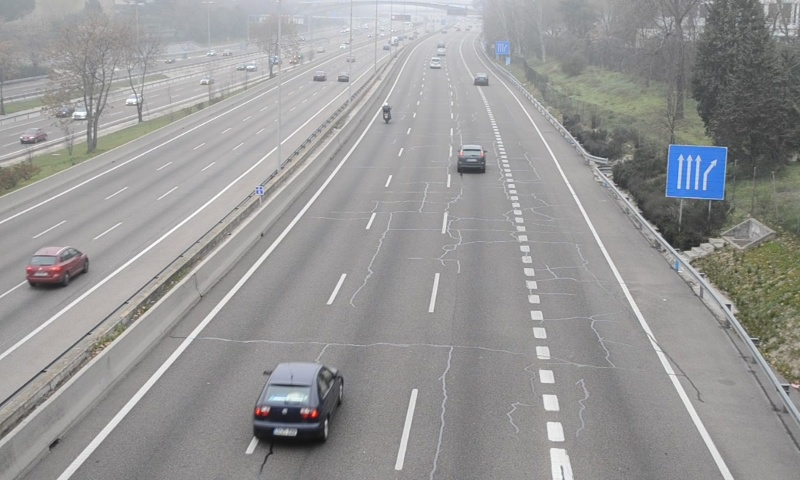car: (254, 362, 343, 444), (457, 144, 486, 174), (474, 73, 488, 86)
motorcycle: (381, 102, 392, 125)
